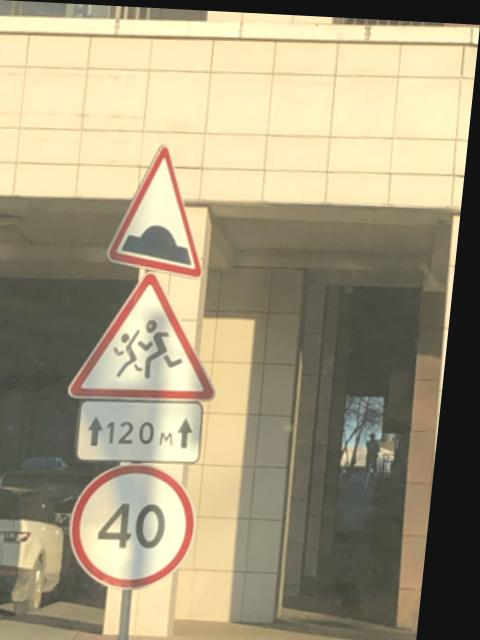limit40: (69, 457, 216, 594)
